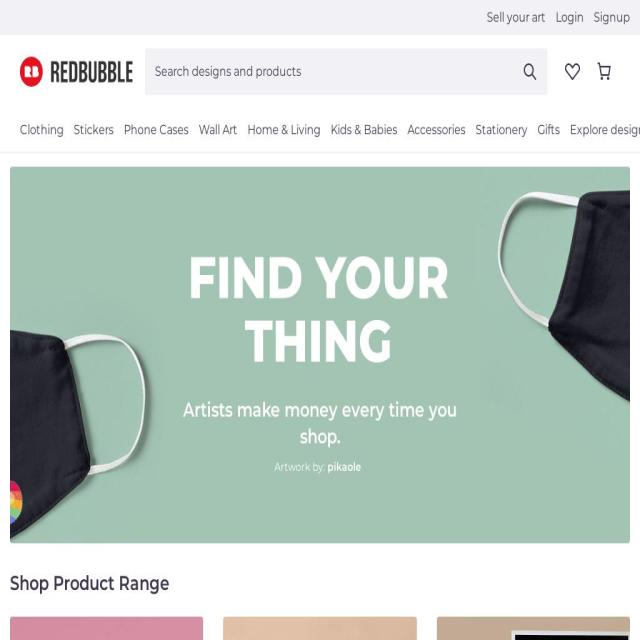button: (10, 616, 204, 640), (223, 616, 417, 640), (436, 616, 630, 640), (20, 56, 132, 87), (248, 108, 320, 152), (570, 108, 640, 152), (330, 108, 398, 152), (124, 108, 188, 152), (408, 108, 466, 152), (476, 108, 528, 152), (20, 108, 64, 152), (74, 108, 114, 152), (198, 108, 238, 152), (538, 108, 560, 152)
field: (145, 48, 517, 95)
heading: (10, 571, 169, 595)
image: (10, 167, 630, 543), (30, 234, 610, 384), (10, 616, 204, 640), (223, 616, 417, 640), (436, 616, 630, 640), (20, 56, 132, 87), (522, 62, 538, 82), (565, 62, 580, 82), (598, 62, 612, 82)
text: (170, 397, 470, 450), (486, 7, 546, 28), (274, 459, 328, 474), (594, 7, 630, 28), (556, 7, 584, 28), (327, 459, 361, 474)
